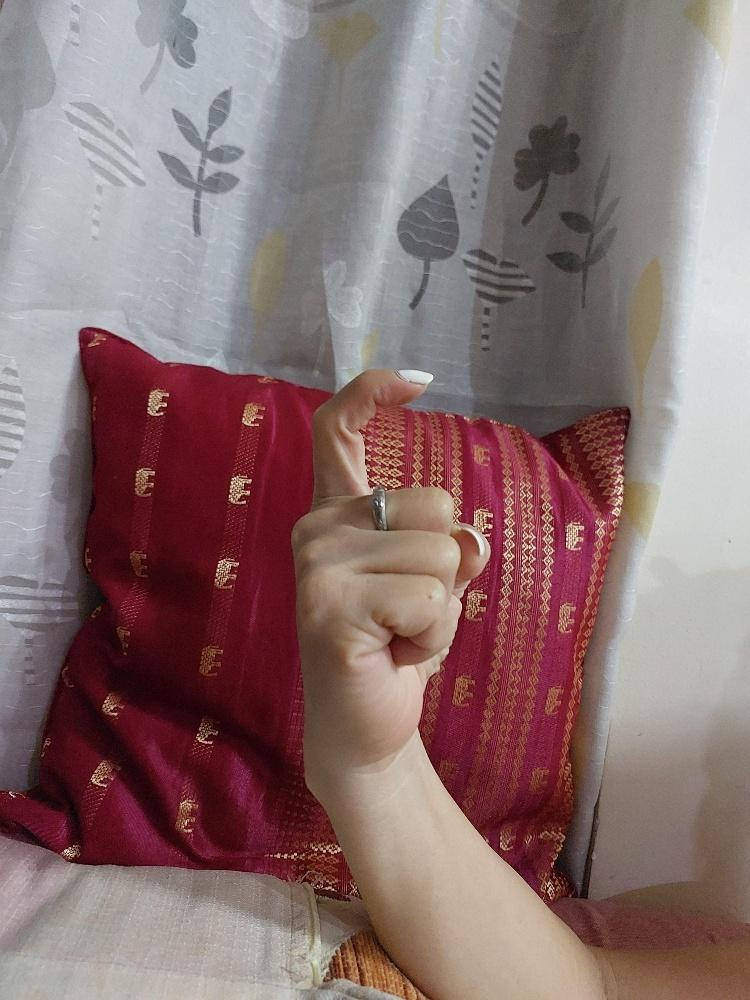x: (285, 364, 493, 768)
